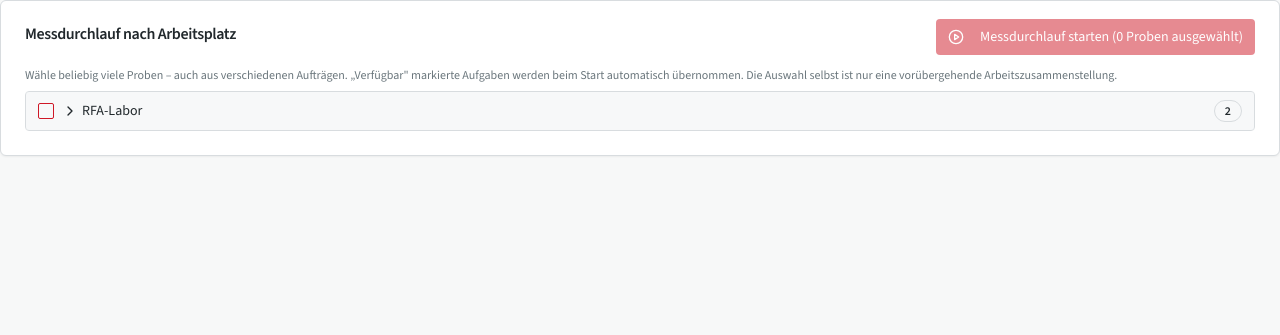
MeasurementRunPicker – Tabelle, Beschreibung, direkte Navigation & Suche › navigiert bei eigener Aufgabe direkt zu /aufgaben/:measurementId und unterscheidet mehrere Proben derselben Dienstleistung
This screenshot has width=1280, height=335.
Later steps or results of the test are not shown.
Click the button "RFA-Labor".
click(112, 110)  # box [62, 101, 1206, 121]
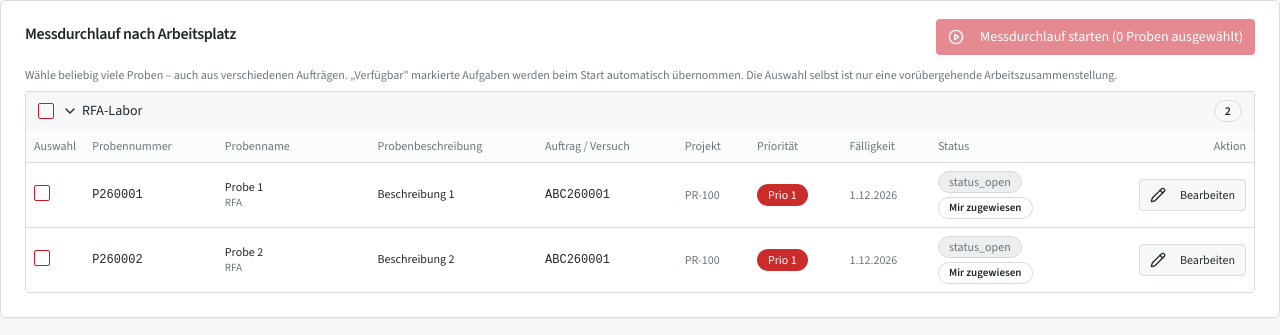
Check: the text "Beschreibung 2" is shown, box [377, 251, 454, 267]
